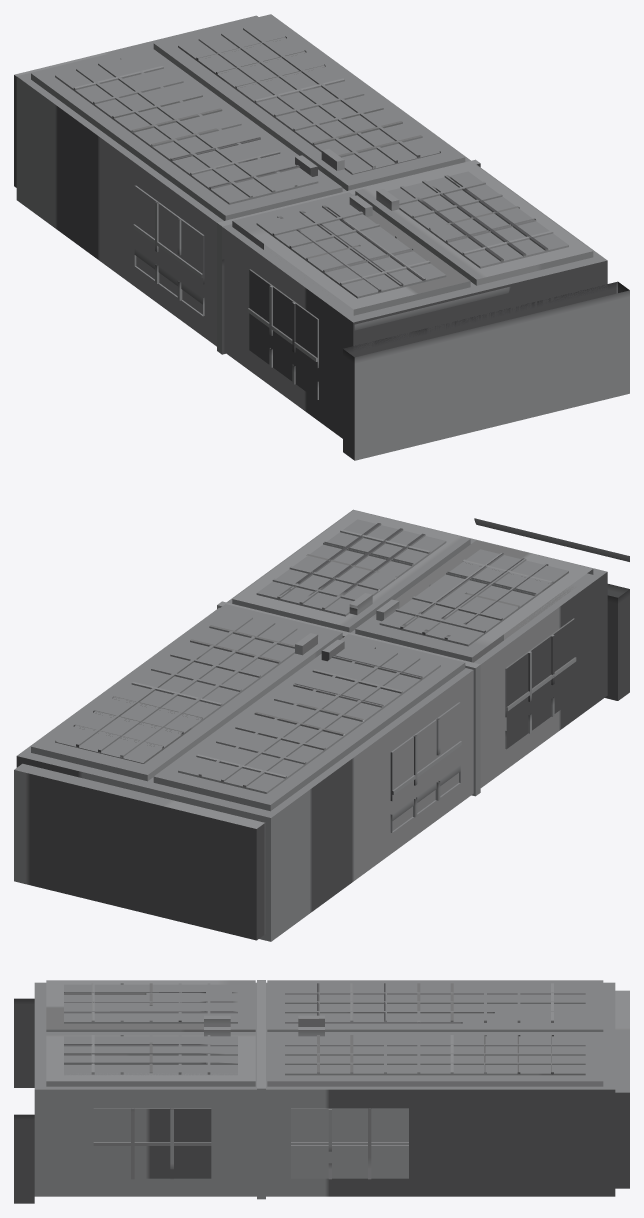
3 views of the same model, one above another, from view 1: azimuth 30°, elevation 25°; view 2: azimuth 150°, elevation 25°; view 3: azimuth 270°, elevation 25° (orthographic). The views are drawn at different scales.
Bounding box in the file's own units: 0.93 × 0.46 × 2.09.
